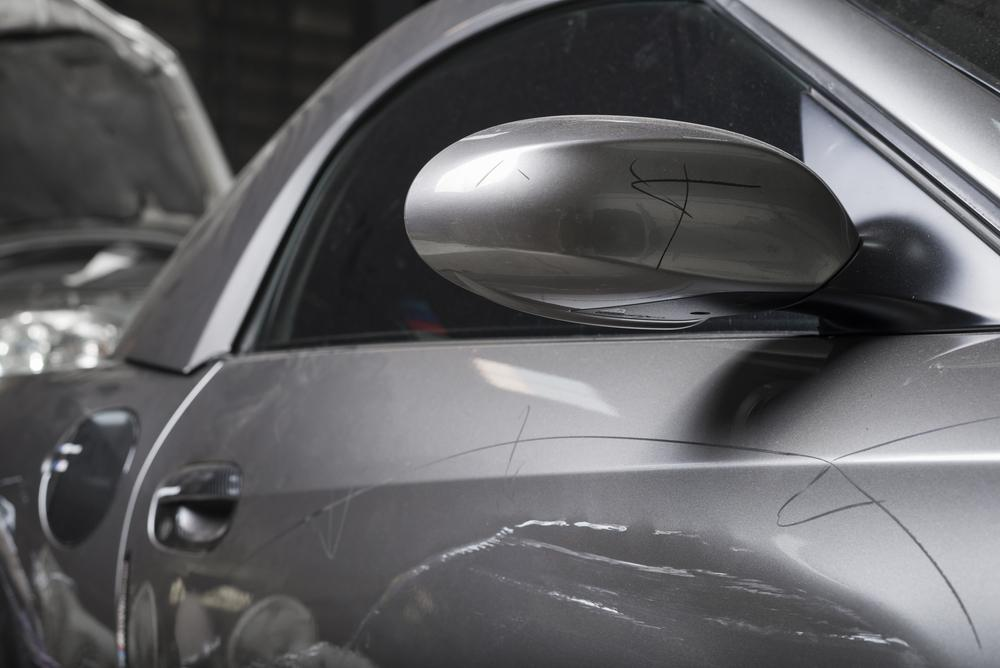dent: (333, 525, 947, 668)
